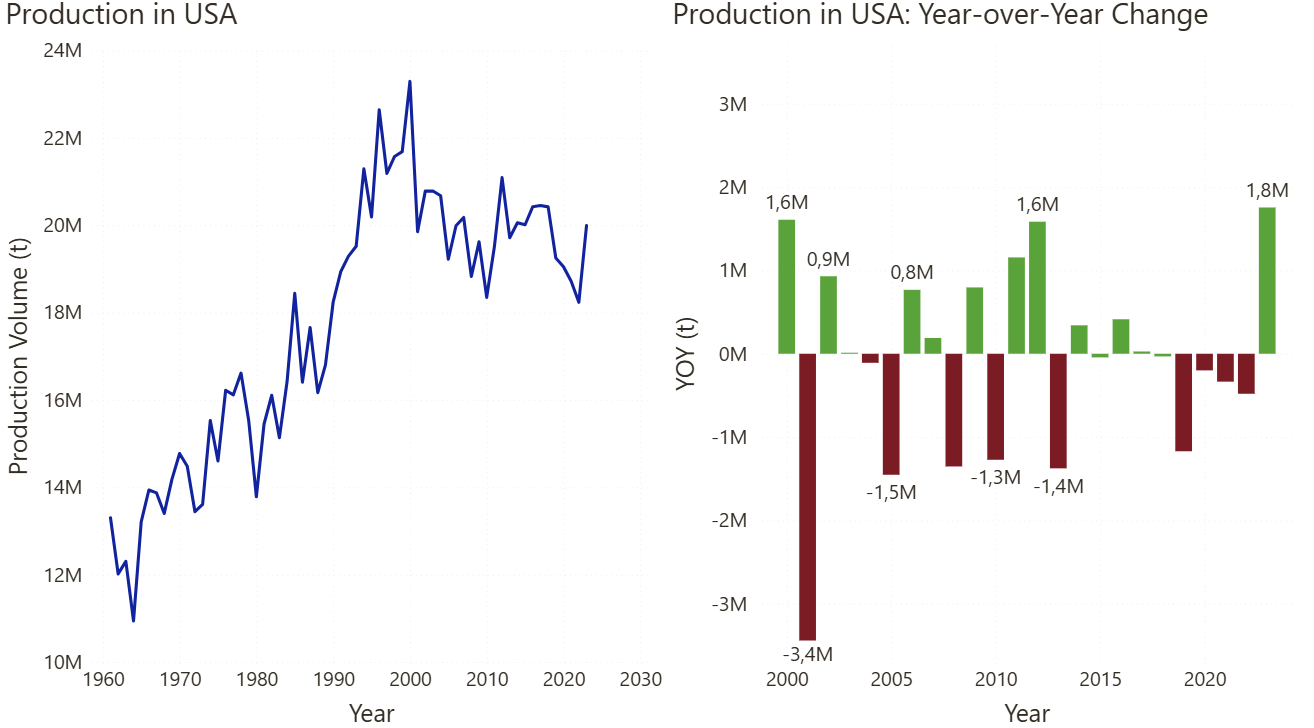

This screenshot's page, from the dashboard's own definition file:
{"tool":"powerbi","page":{"name":"Q6","canvas":[1280,720],"ordinal":8},"visuals":[{"type":"clusteredColumnChart","title":"Production in USA: Year-over-Year Change","fields":{"Category":["Q6 Spotlight A Country’s Journey Over the Years.Year"],"Y":["Sum(Q6 Spotlight A Country’s Journey Over the Years.YOY)"]},"box":[648.8,0,631.2,719.8],"z":0},{"type":"lineChart","title":"Production in USA","fields":{"Category":["Q6 Spotlight A Country’s Journey Over the Years.Year"],"Y":["Sum(Q6 Spotlight A Country’s Journey Over the Years.Production)"]},"box":[0,0,648.8,719.8],"z":1000}]}

Visuals, with their boxes in screenshot pixels (x1, y1, x2, y2), scaled from the page's 1280x720 canvas onto the 1314x728 screenshot:
"Production in USA: Year-over-Year Change" clusteredColumnChart: bbox(666, 0, 1313, 727)
"Production in USA" lineChart: bbox(0, 0, 666, 727)
